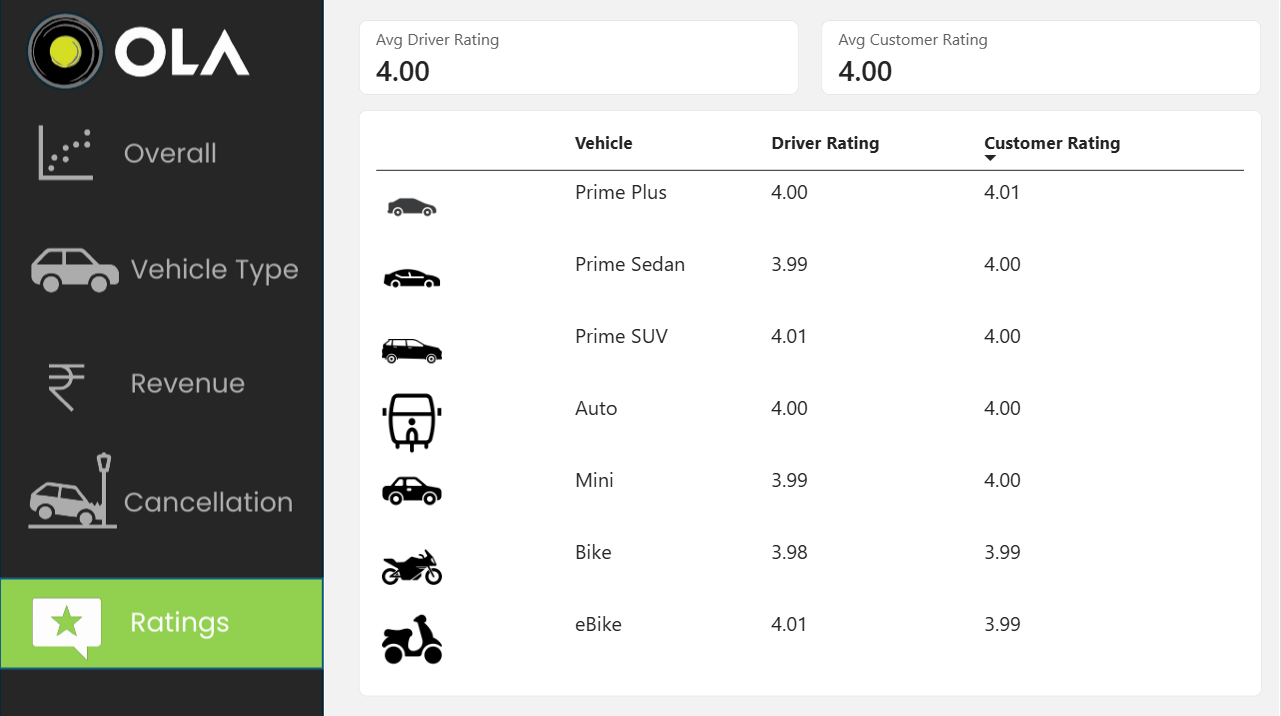

The page's visual inventory and layout, read from the dashboard file:
{"tool":"powerbi","page":{"name":"Ratings","canvas":[1920,1080],"ordinal":4},"visuals":[{"type":"actionButton","title":"Overall","box":[321.4,291.4,322.9,87.1],"z":0},{"type":"actionButton","title":"Vehicle Type","box":[321.4,378.6,322.9,122.9],"z":1},{"type":"actionButton","title":"Revenue","box":[321.4,501.4,322.9,118.6],"z":2},{"type":"actionButton","title":"Cancellation","box":[321.4,620,322.9,118.6],"z":3},{"type":"actionButton","title":"Ratings","box":[321.4,738.6,322.9,115.7],"z":4}]}

Visuals, with their boxes in screenshot pixels (x1, y1, x2, y2), scaled from the page's 1920x1080 canvas onto the 1281x716 screenshot:
"Overall" actionButton: [left=214, top=193, right=430, bottom=251]
"Vehicle Type" actionButton: [left=214, top=251, right=430, bottom=332]
"Revenue" actionButton: [left=214, top=332, right=430, bottom=411]
"Cancellation" actionButton: [left=214, top=411, right=430, bottom=490]
"Ratings" actionButton: [left=214, top=490, right=430, bottom=566]
